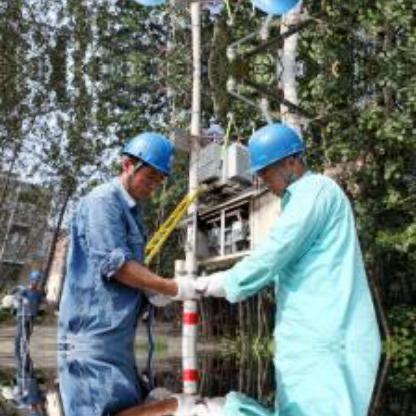Safety Helmet: (238, 120, 316, 202), (114, 128, 173, 208)
